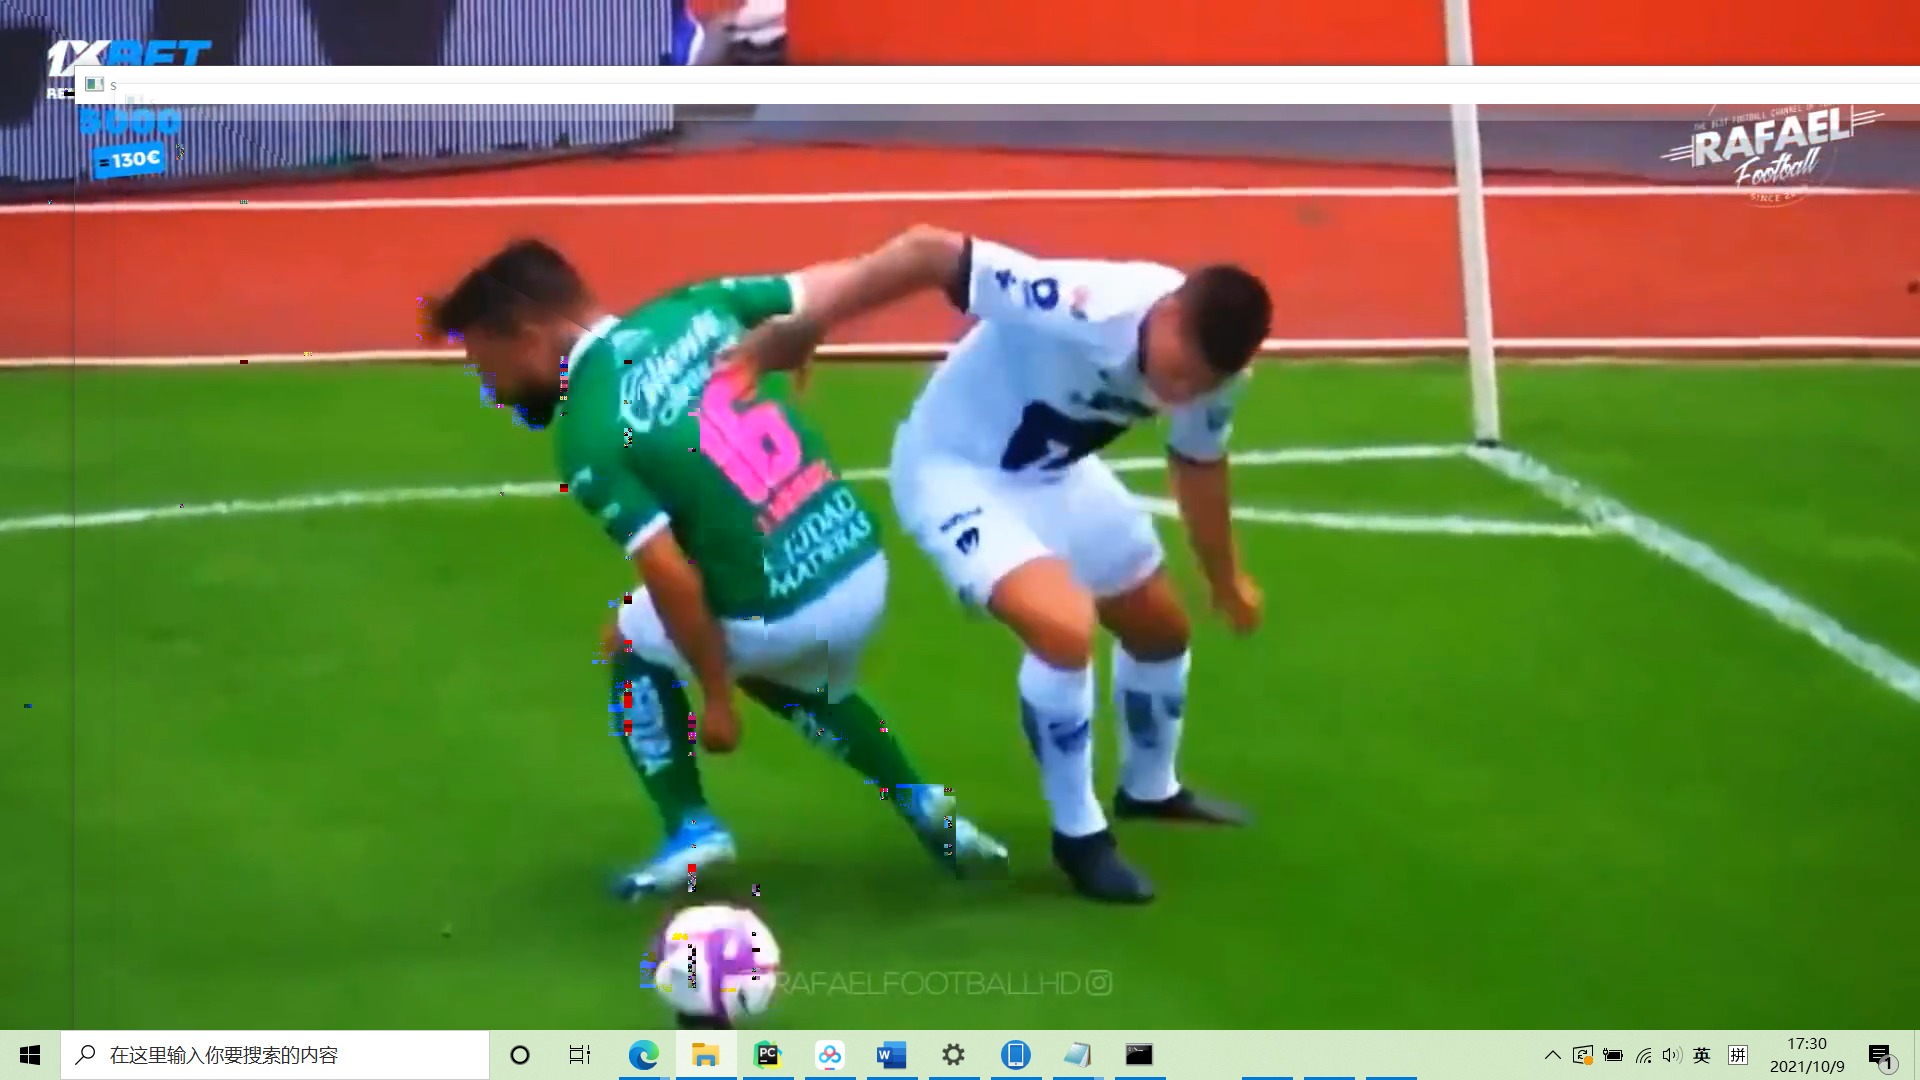ft: (650, 902, 785, 1029)
